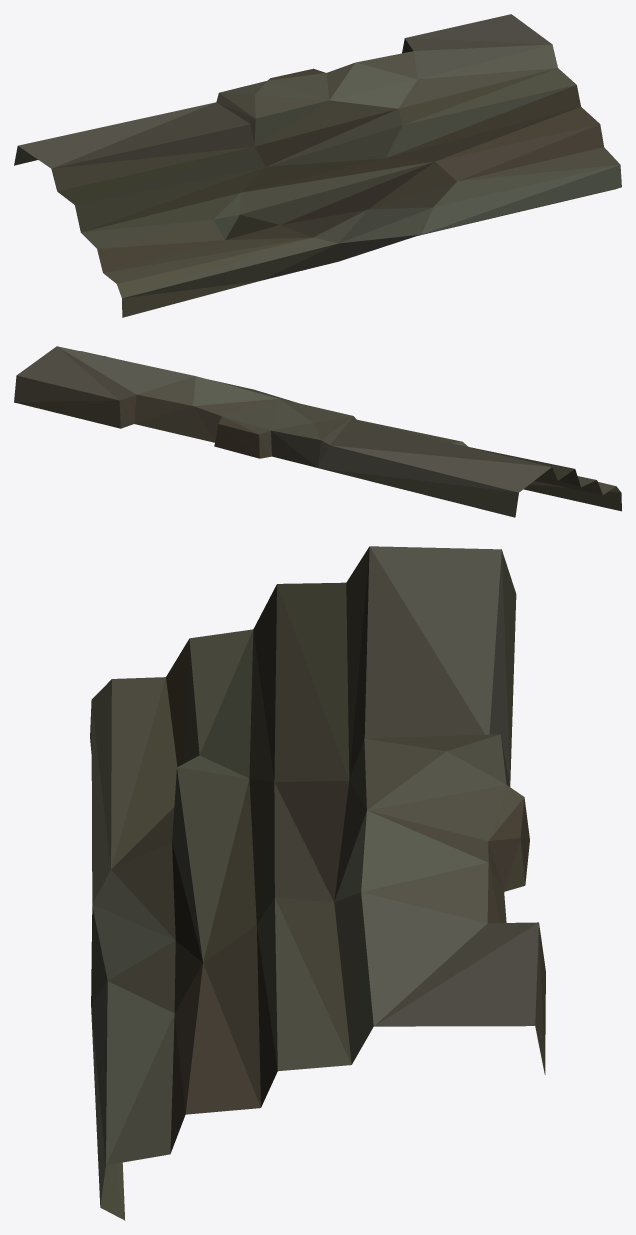
The model's file is stairs_tile.fbx.
The picture shows the model from 3 angles, top to bottom: view 1: azimuth 30°, elevation 25°; view 2: azimuth 150°, elevation 25°; view 3: azimuth 270°, elevation 25°; orthographic projection. The views are drawn at different scales.
Parts seen in each view (by area): view 1: stairs_tile; view 2: stairs_tile; view 3: stairs_tile.
Boxes of the visible parts, x1,y1,x2,y2 form: stairs_tile: (14,14,621,317); stairs_tile: (14,346,621,517); stairs_tile: (90,546,545,1220).
Bounding box in the file's own units: 6 × 1.19 × 2.4.
